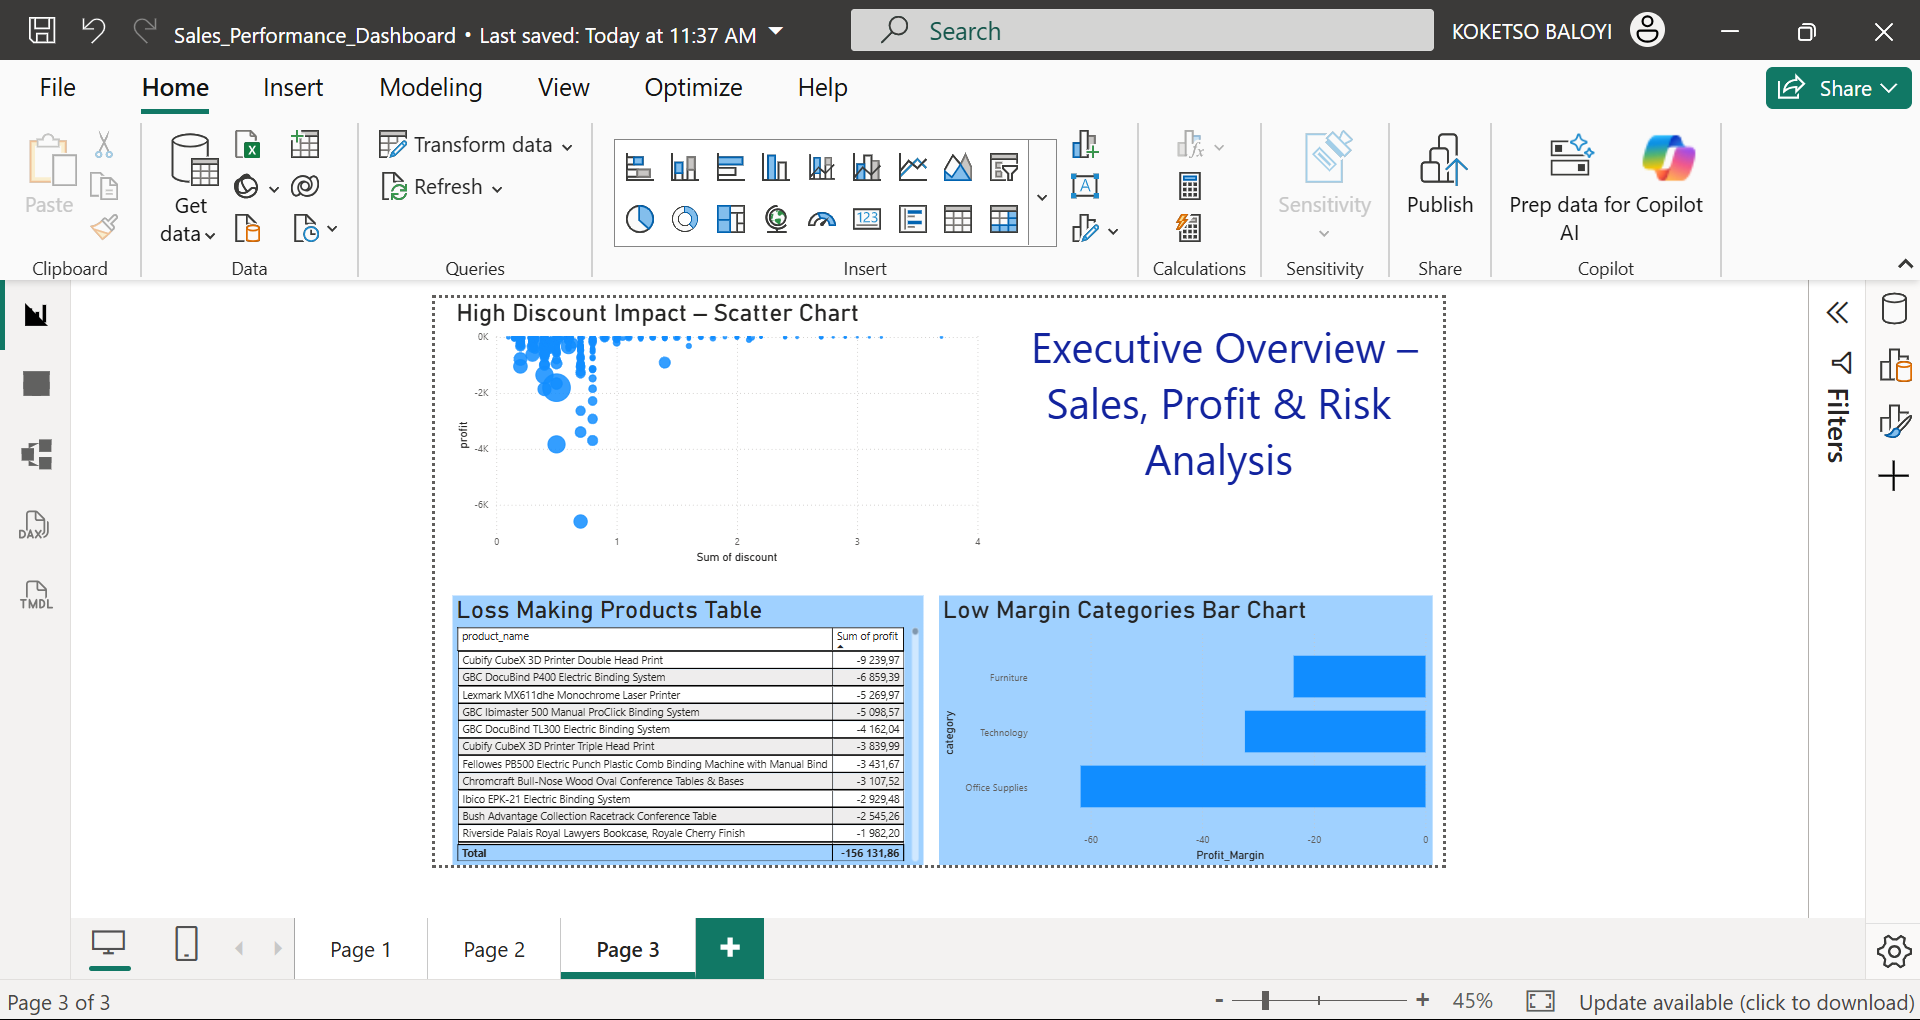

The page's visual inventory and layout, read from the dashboard file:
{"tool":"powerbi","page":{"name":"Page 3","canvas":[1280,720],"ordinal":2},"visuals":[{"type":"tableEx","title":"Loss Making Products Table","fields":{"Values":["sales_data.product_name","Sum(sales_data.profit)"]},"box":[22.9,377.1,597.1,342.9],"z":0},{"type":"clusteredBarChart","title":"Low Margin Categories Bar Chart","fields":{"Category":["sales_data.category"],"Y":["sales_data.Profit_Margin"]},"box":[640,377.8,626.7,342.2],"z":1},{"type":"scatterChart","title":"High Discount Impact – Scatter Chart","fields":{"Size":["Sum(sales_data.sales)"],"X":["Sum(sales_data.discount)"],"Y":["sales_data.profit"]},"box":[22,0,675.6,341.5],"z":2},{"type":"textbox","box":[712.2,19.5,568.3,341.5],"z":3}]}

Visuals, with their boxes on the page's 1280x720 design canvas (x1, y1, x2, y2). These are canvas units, not pixel positions in the 1920x1020 screenshot, which may show the page scaled, cropped or inside an application window:
"Loss Making Products Table" tableEx: (23, 377, 620, 720)
"Low Margin Categories Bar Chart" clusteredBarChart: (640, 378, 1267, 720)
"High Discount Impact – Scatter Chart" scatterChart: (22, 0, 698, 342)
textbox: (712, 20, 1280, 361)
